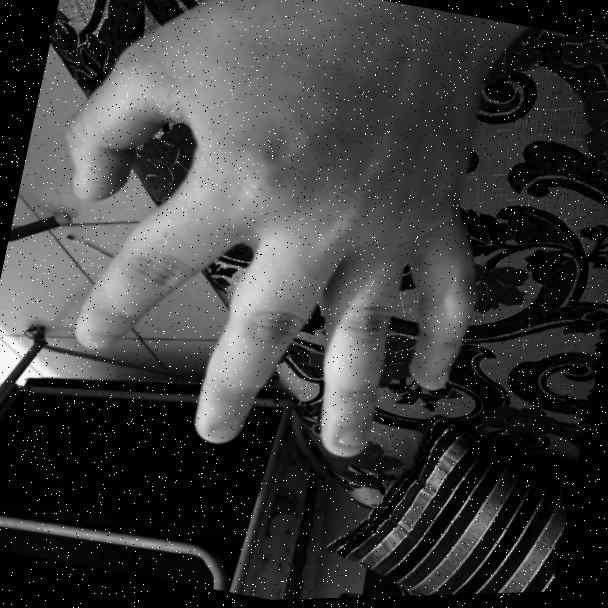five: (25, 0, 525, 491)
